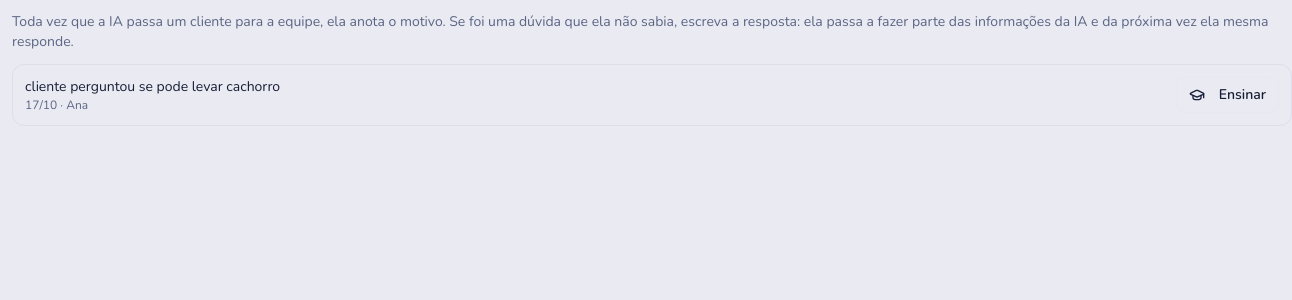
Scenario: AiHandoffReasons › lista o motivo e salva a resposta ensinada
Expected: the text "cliente perguntou se pode levar cachorro" is shown, [25,77,280,97]
Expected: the text "17/10 · Ana" is shown, [25,97,88,113]
Click the button "Ensinar" at (1227, 95), box [1176,77,1279,113]
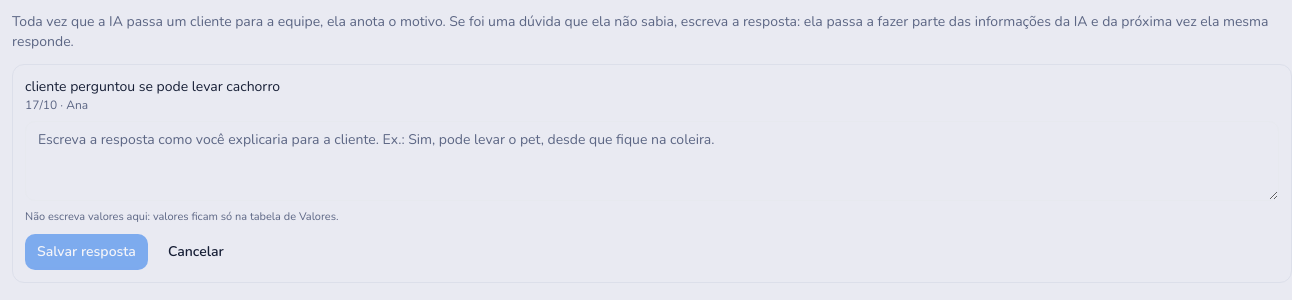
Replace the text in the text box named "Resposta para a IA" with "Pode, na coleira" at (652, 161), box [25,121,1279,201]
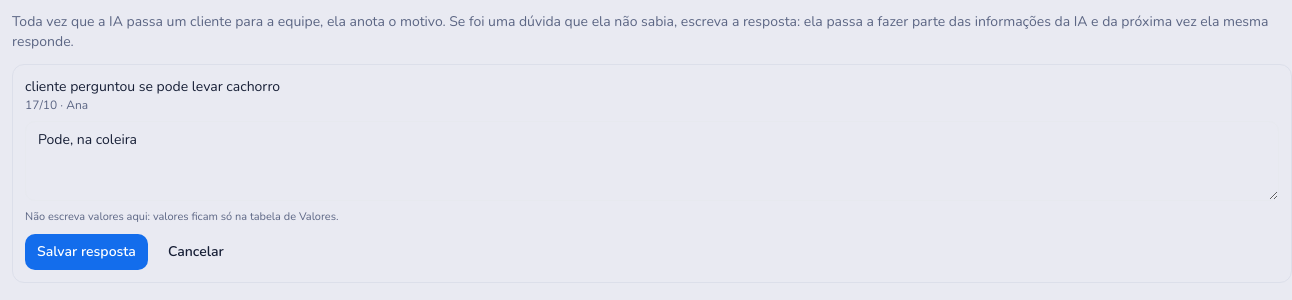
Click the button "Salvar resposta" at (86, 252), box [25,234,148,270]
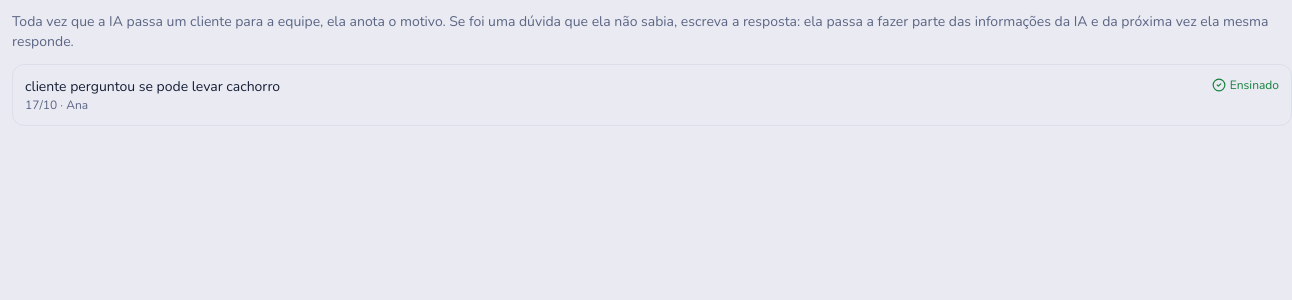
Result: the text "Ensinado" is shown at [1212,77,1279,93]
